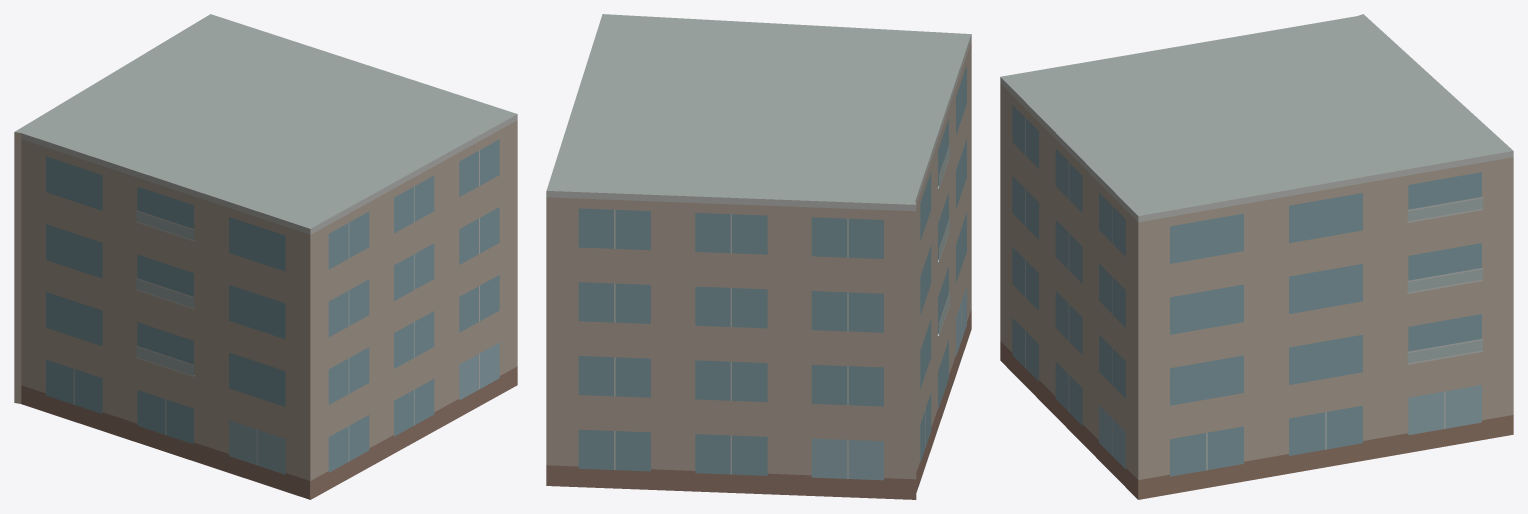
File: survey-upis-32598110.glb
3 renders of one model, left to right at view 1: azimuth 30°, elevation 25°; view 2: azimuth 150°, elevation 25°; view 3: azimuth 270°, elevation 25°, orthographic. The views are drawn at different scales.
Parts seen in each view (by area): view 1: survey-upis-32598110.tmp; view 2: survey-upis-32598110.tmp; view 3: survey-upis-32598110.tmp.
Part boxes in pixels (x1,y1,x2,y2): survey-upis-32598110.tmp: (14,14,517,499); survey-upis-32598110.tmp: (546,14,971,499); survey-upis-32598110.tmp: (1000,14,1513,499).
Bounding box in the file's own units: 17.05 × 11.15 × 18.29.
